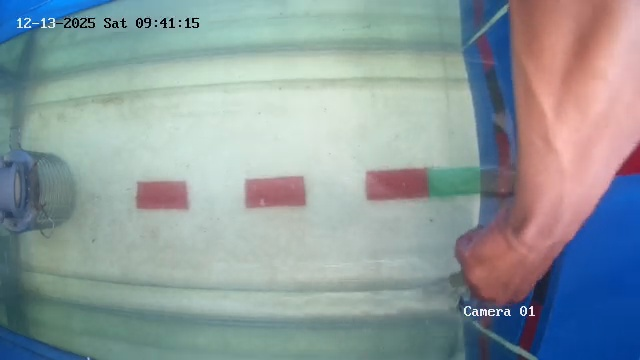fish: (419, 320, 463, 342)
